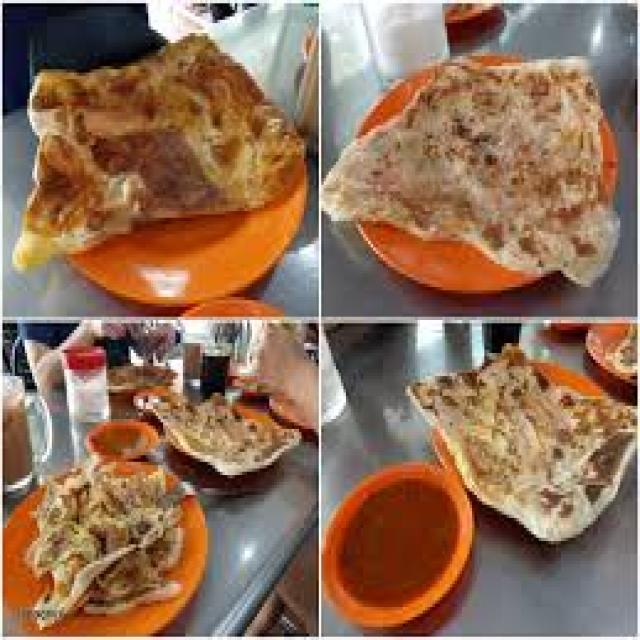Paratha: (318, 342, 610, 630), (27, 37, 284, 253), (322, 63, 608, 256), (23, 472, 185, 629)
